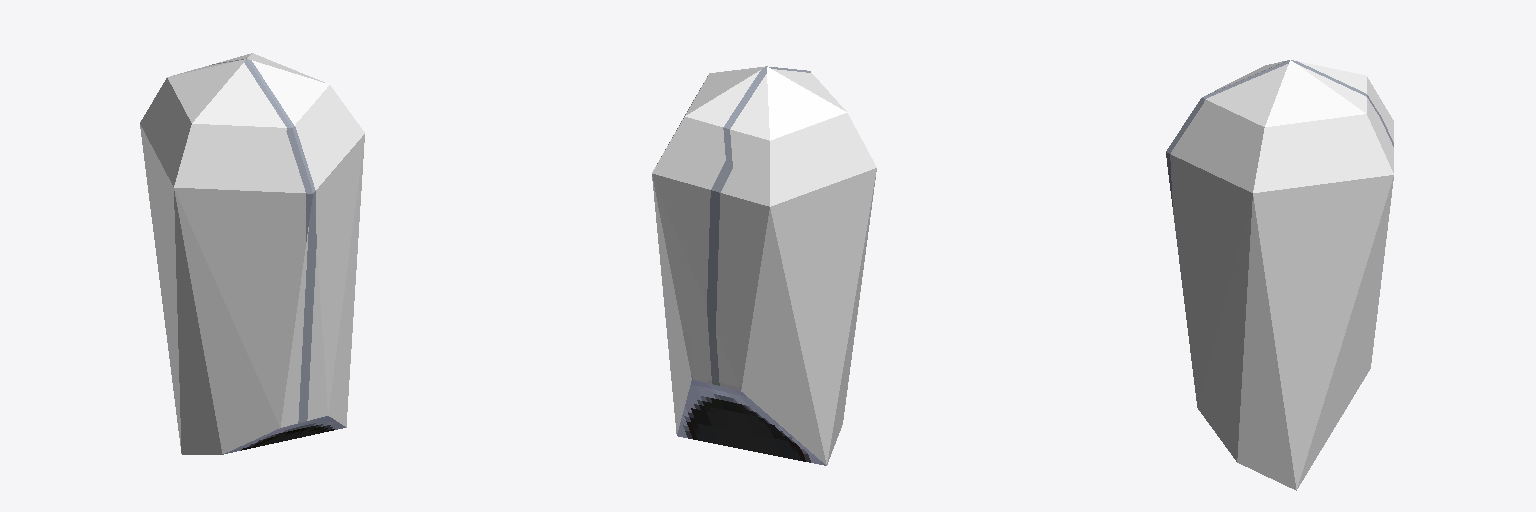
The picture shows the model from 3 angles: view 1: azimuth 30°, elevation 25°; view 2: azimuth 150°, elevation 25°; view 3: azimuth 270°, elevation 25°; orthographic projection.
Visible parts, largest first — view 1: buzzlightyLeftThigh_buzzlighty.019; view 2: buzzlightyLeftThigh_buzzlighty.019; view 3: buzzlightyLeftThigh_buzzlighty.019.
Part boxes in pixels (bbox=[...]): buzzlightyLeftThigh_buzzlighty.019: bbox=[140, 53, 364, 454]; buzzlightyLeftThigh_buzzlighty.019: bbox=[652, 66, 876, 465]; buzzlightyLeftThigh_buzzlighty.019: bbox=[1166, 60, 1393, 490].
Size of the model in its own units: 0.091 by 0.1768 by 0.0942.
Materials: 1 (1 with a texture image).